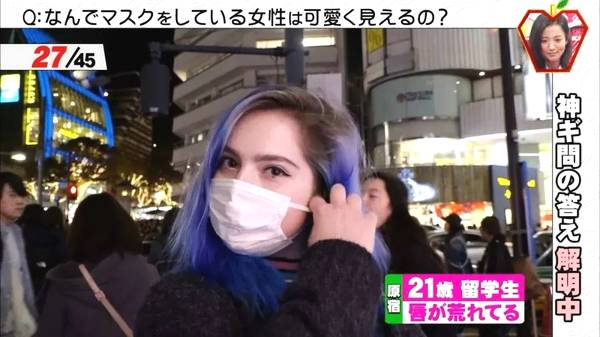mask: (206, 178, 302, 259)
